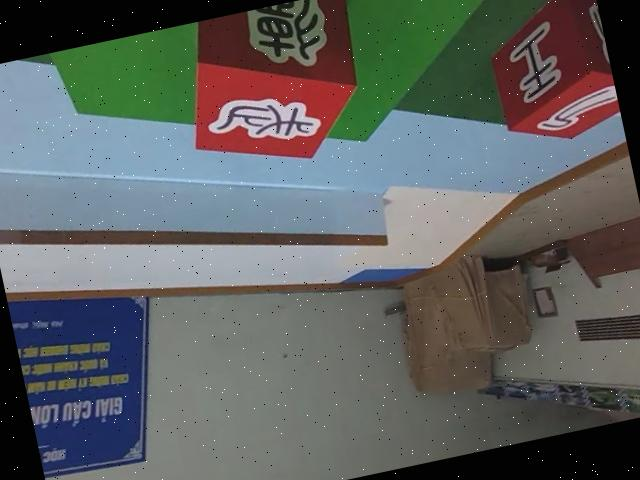R2 Fake: (168, 0, 378, 182), (478, 0, 623, 153)
